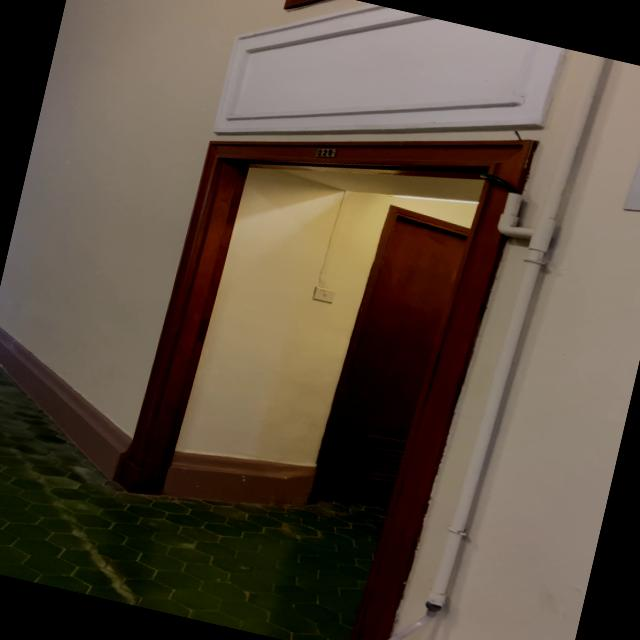room229: (312, 143, 338, 163)
